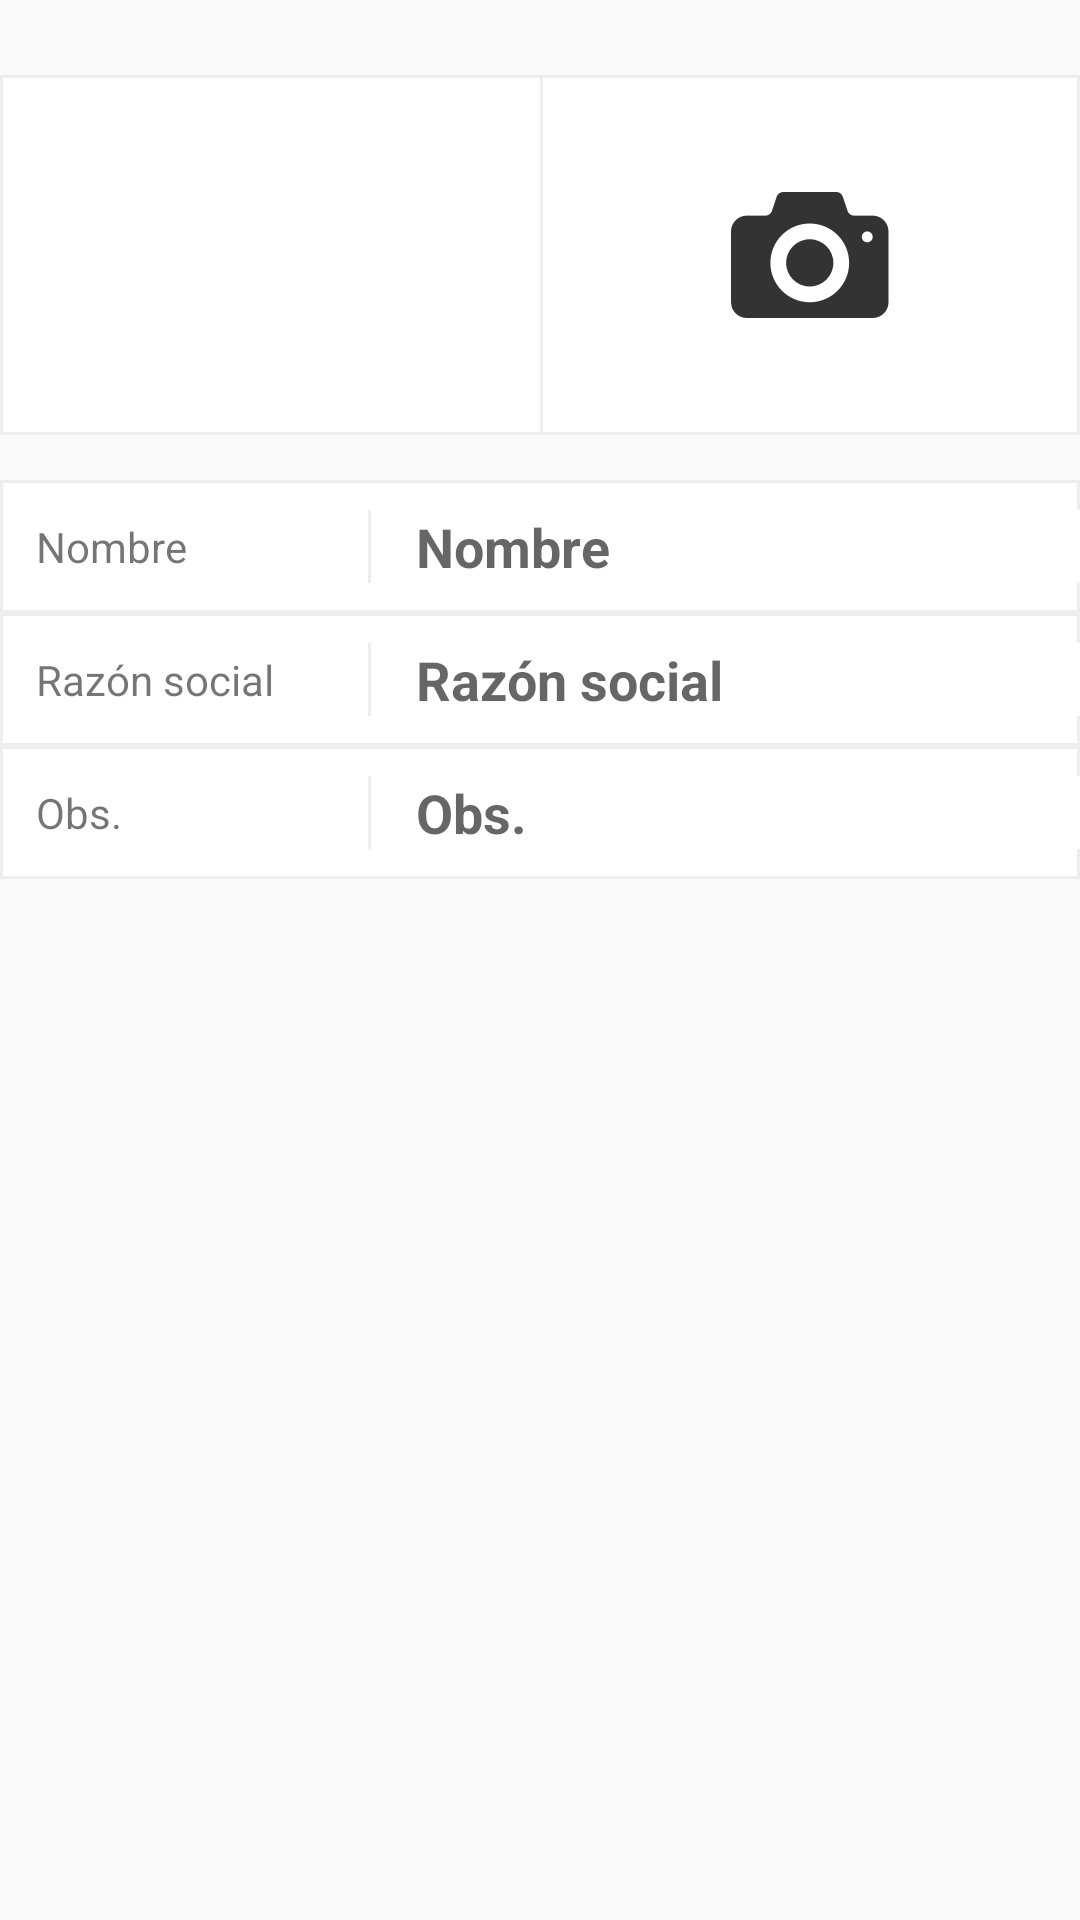

Point at icon controls on the screen. Image size 1080*1920, points as point (x, y).
photo camera: point (810, 255)
